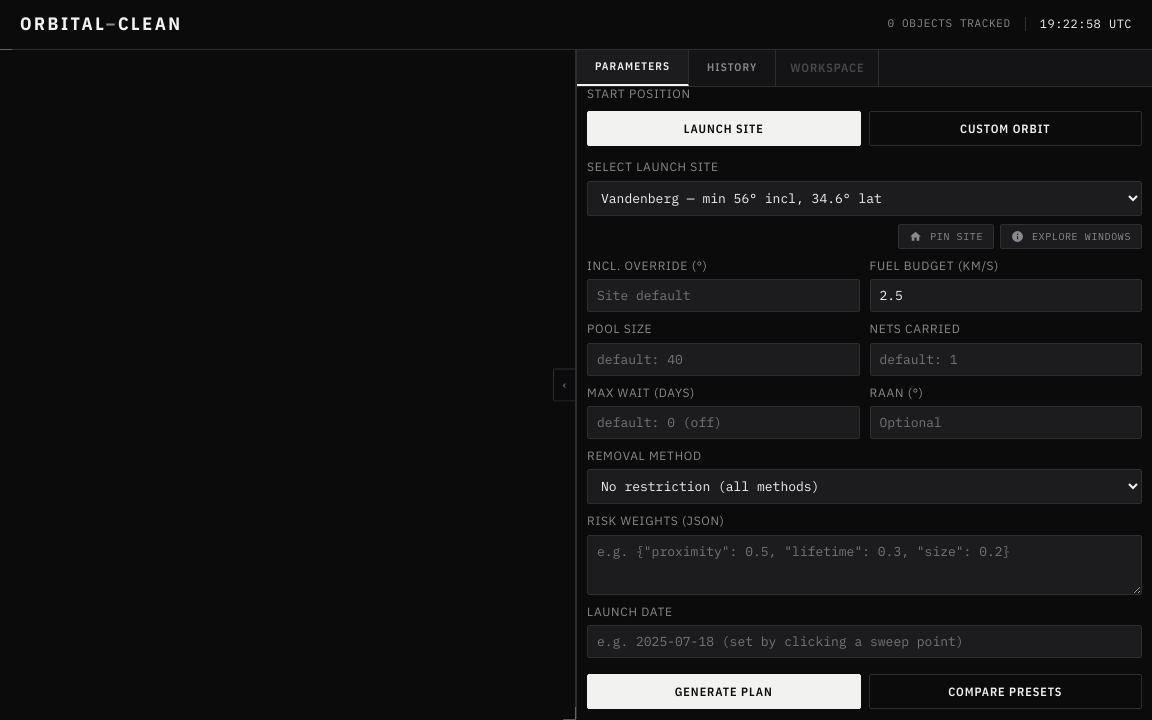
it: RENDER-rank-c) card border colors in DOM match rank-based assignment › Risk-Aggressive card border is brightest (#f2f2f0) since it has highest efficiency in COMPARE_RESULT
(page scrolled)
Click the button "Compare Presets": (1005,692) [868,674,1142,709]
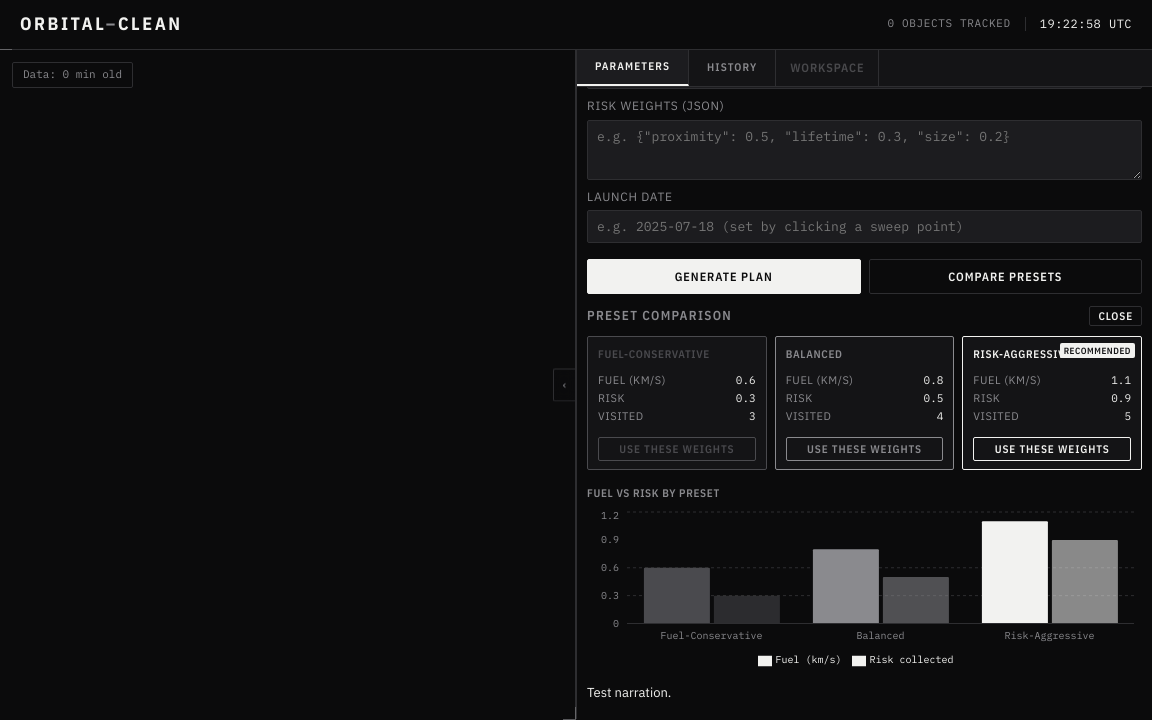
Check: the element that starts with "Recommended" is shown, box [962,336,1142,470]
